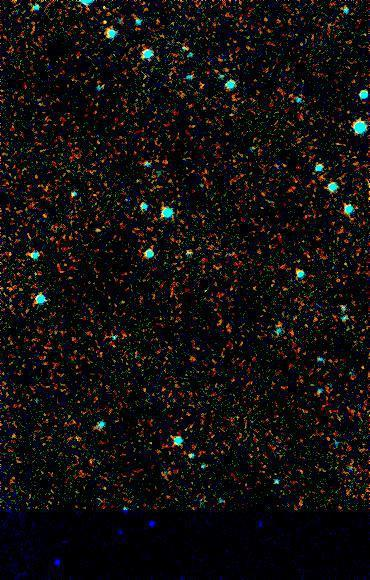star: (78, 217, 108, 247)
